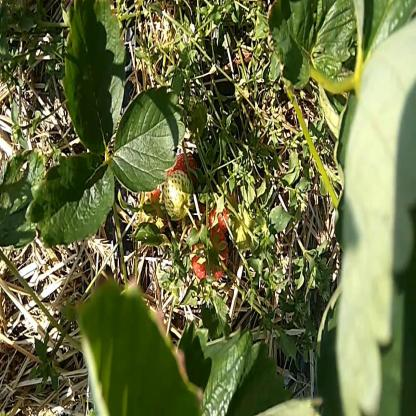ripe: (189, 227, 231, 285), (142, 176, 167, 232)
unripe: (163, 168, 193, 220)
